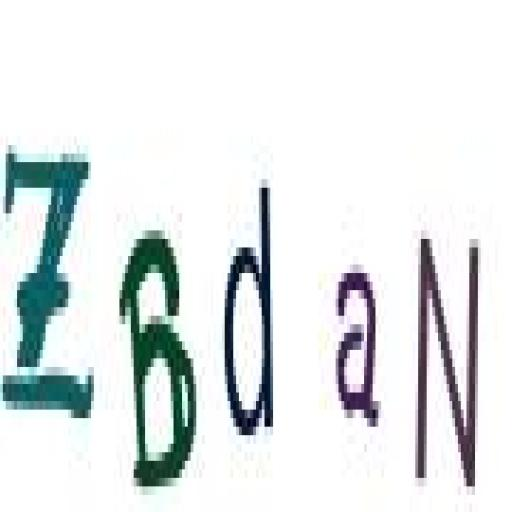B: (114, 198, 200, 495)
N: (412, 216, 482, 503)
Z: (0, 134, 98, 437)
a: (332, 253, 385, 439)
d: (220, 164, 281, 452)
